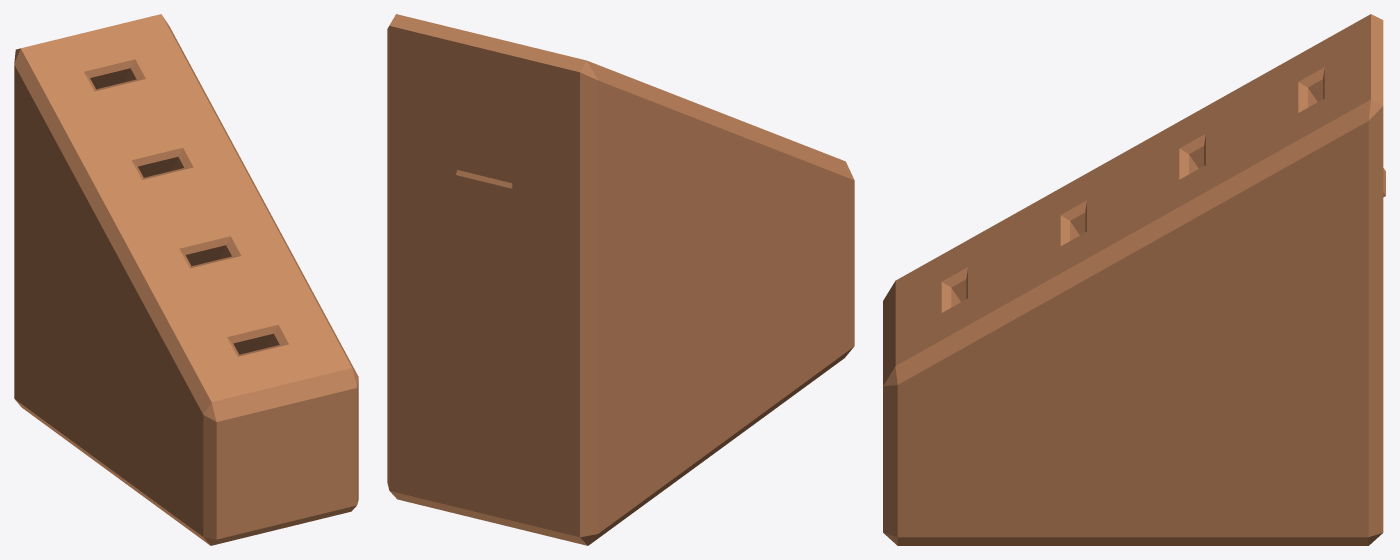
The model's file is Knife Block.glb.
The picture shows the model from 3 angles, left to right: view 1: azimuth 30°, elevation 25°; view 2: azimuth 150°, elevation 25°; view 3: azimuth 270°, elevation 25°; orthographic projection. The views are drawn at different scales.
Visible parts, largest first — view 1: Knife Block; view 2: Knife Block; view 3: Knife Block.
Boxes of the visible parts, box(x1,y1,x2,y2) form: Knife Block: box(14, 14, 358, 545); Knife Block: box(387, 14, 854, 545); Knife Block: box(883, 14, 1385, 545).
Bounding box in the file's own units: 0.163 × 0.3595 × 0.3669.
